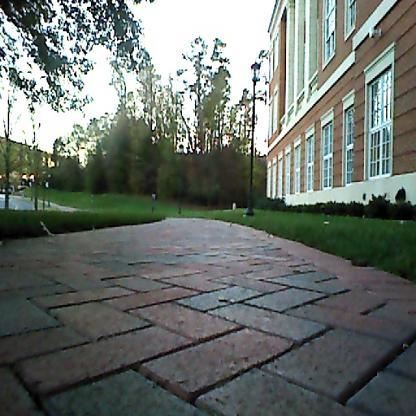Edge: (182, 210, 416, 283), (0, 209, 166, 243)
Sidewalk: (0, 218, 416, 416)
